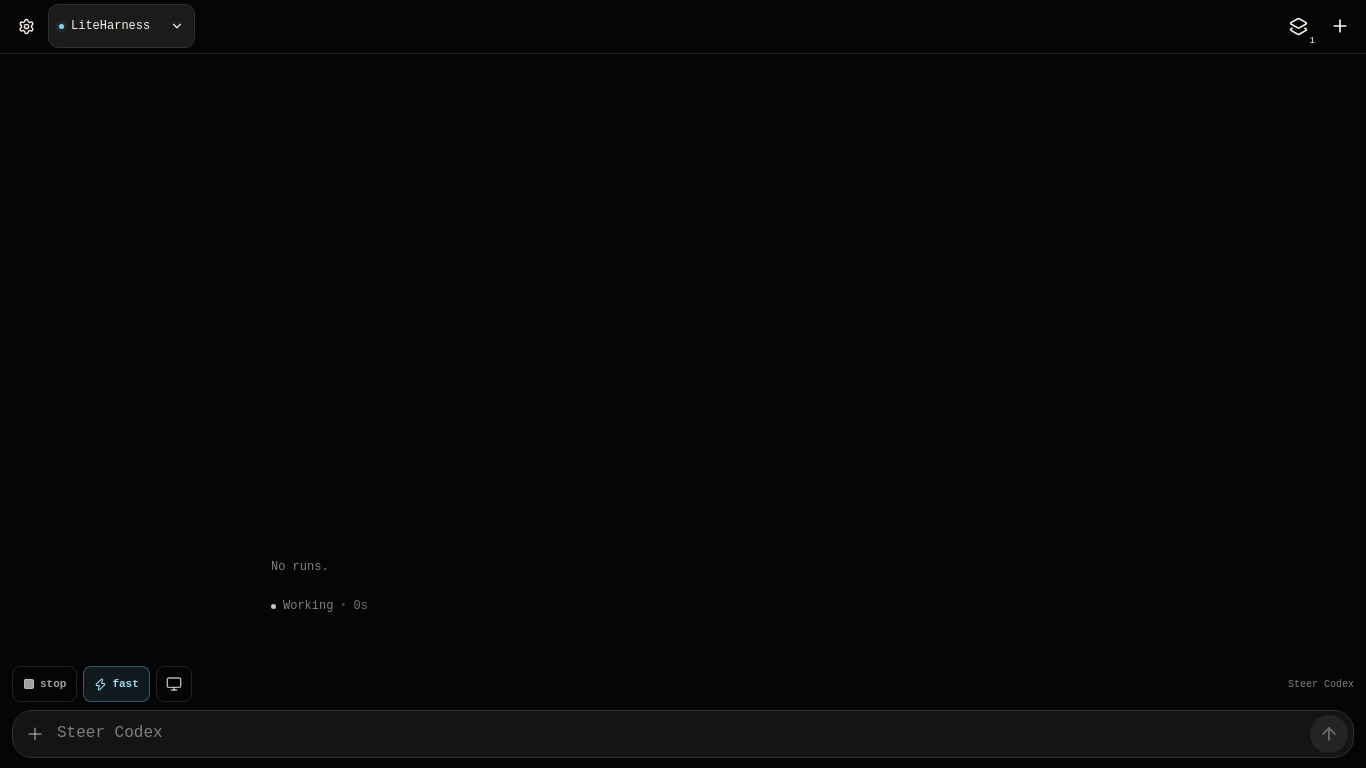
Test case: MobileShell heartbeat recovery › does not erase an operation error when the connection recovers
Step 1. Type "Keep this draft" into the text box named "Prompt" → point(683, 734), box [13,711,1353,757]
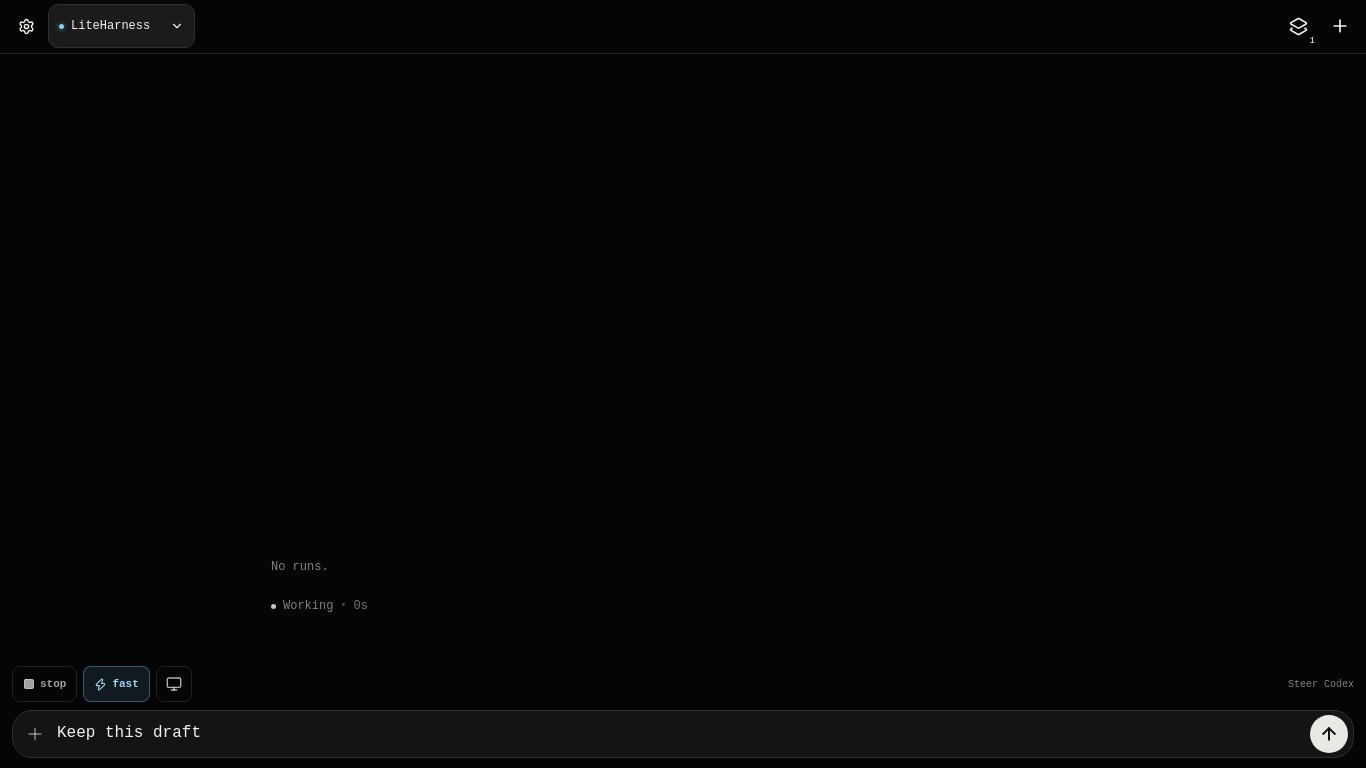
Step 2. Click the button named "Steer" → point(1329, 734), box [1310,715,1348,753]
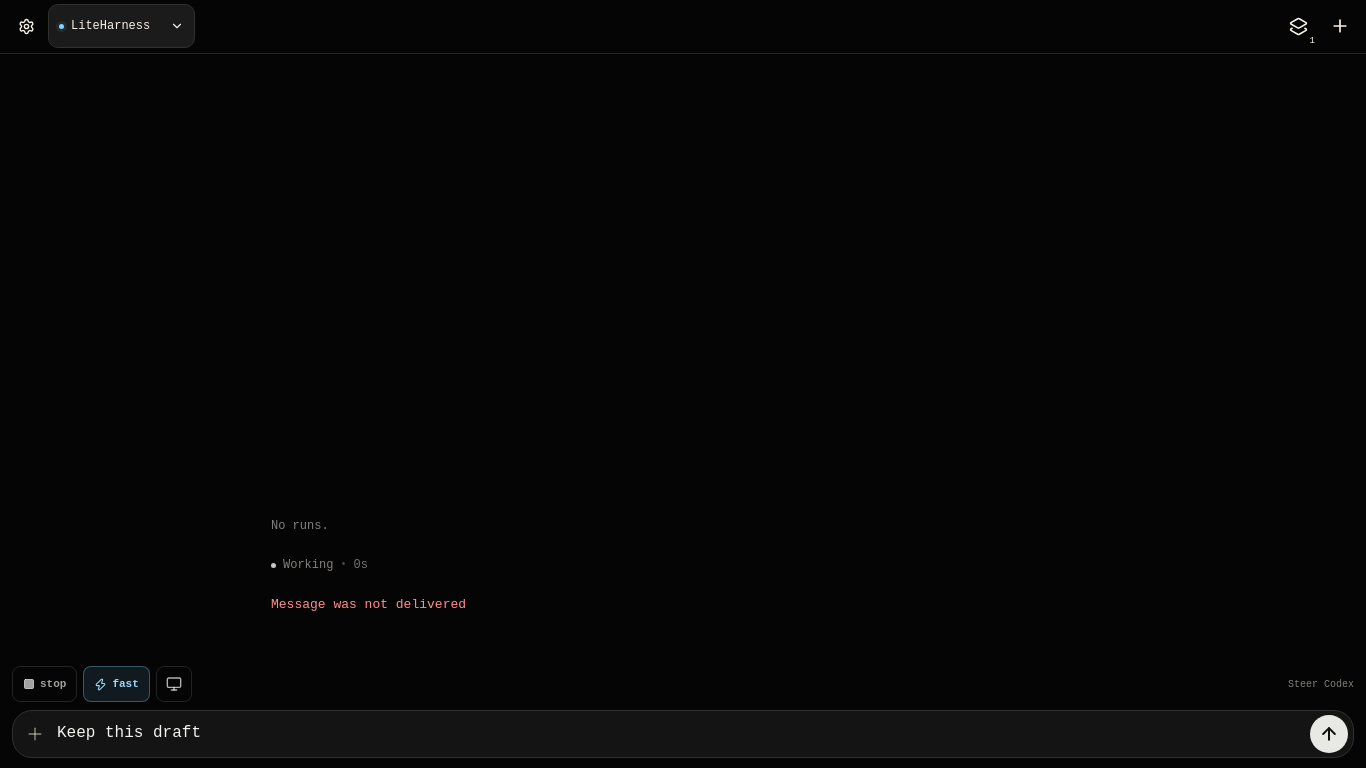
Now the text "Message was not delivered" is shown, box [271,597,466,612]
